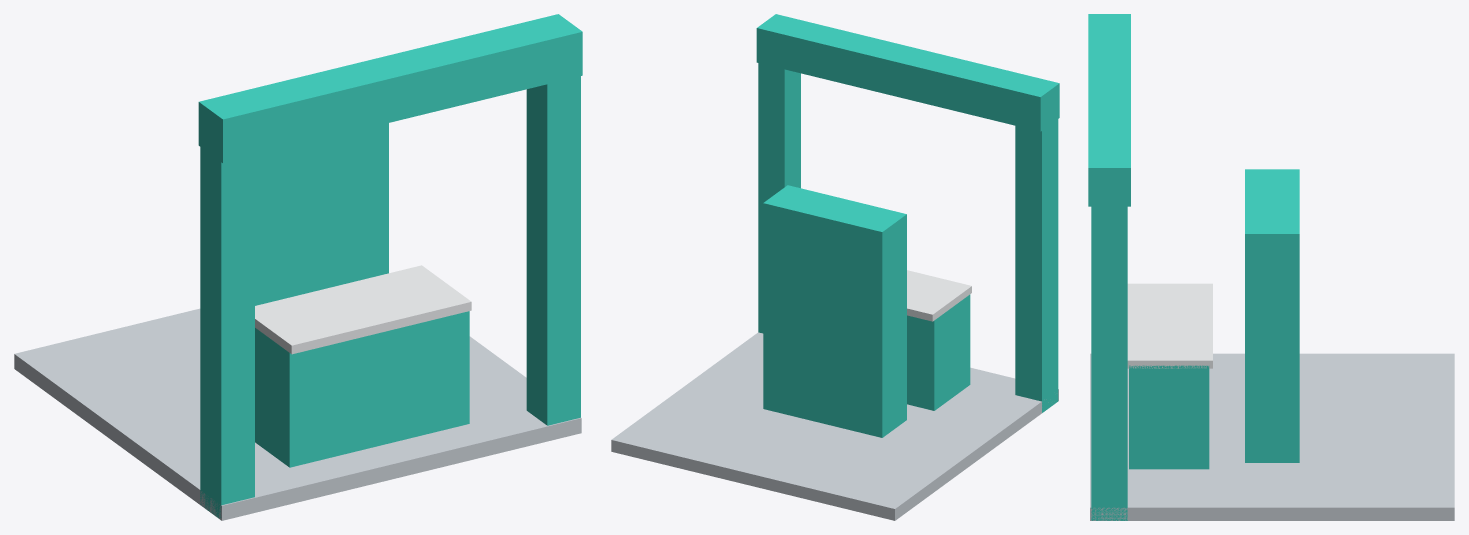
3 renders of one model, left to right at view 1: azimuth 30°, elevation 25°; view 2: azimuth 150°, elevation 25°; view 3: azimuth 270°, elevation 25°, orthographic. The views are drawn at different scales.
Parts seen in each view (by area): view 1: Exhibition Booth Concept; view 2: Exhibition Booth Concept; view 3: Exhibition Booth Concept.
Part boxes in pixels (x1=…): Exhibition Booth Concept: x1=14, y1=14, x2=582, y2=520; Exhibition Booth Concept: x1=611, y1=14, x2=1059, y2=520; Exhibition Booth Concept: x1=1088, y1=14, x2=1454, y2=520.
Size of the model in its own units: 3 by 3.2 by 3.01.
